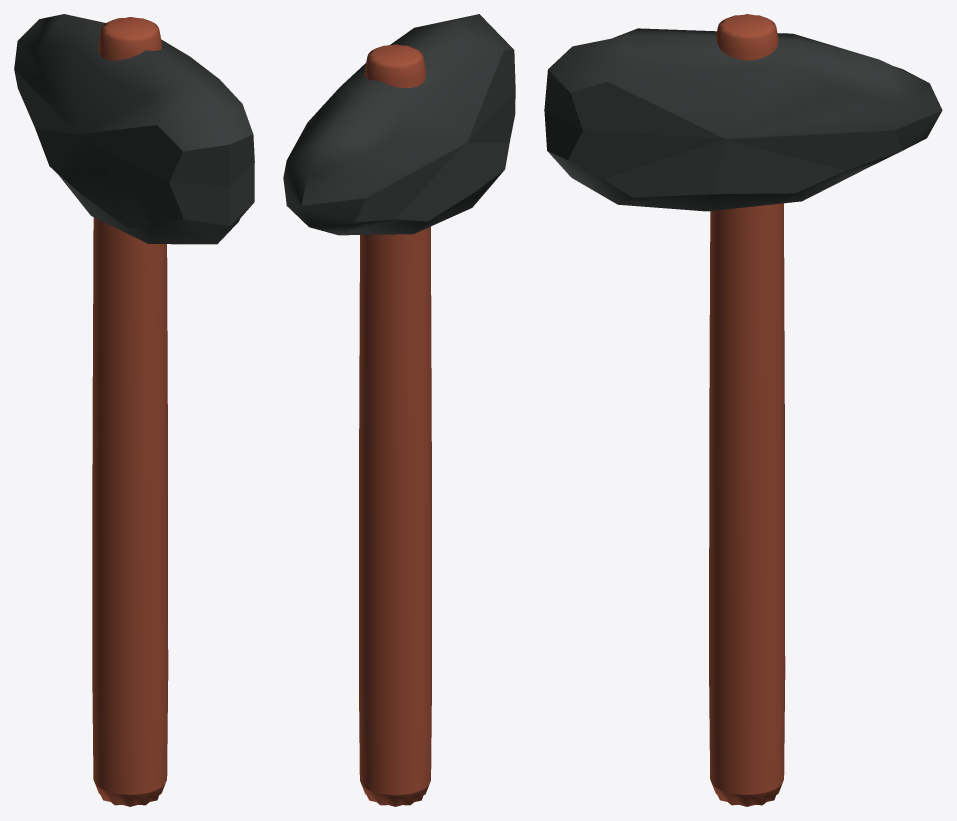
Rendered from Hammer.fbx.
3 views of the same model, side by side, from view 1: azimuth 30°, elevation 25°; view 2: azimuth 150°, elevation 25°; view 3: azimuth 270°, elevation 25° (orthographic). The views are drawn at different scales.
Parts seen in each view (by area): view 1: Hammer; view 2: Hammer; view 3: Hammer.
Boxes of the visible parts, x1,y1,x2,y2 form: Hammer: (14,14,254,806); Hammer: (283,14,515,806); Hammer: (544,14,942,806).
Bounding box in the file's own units: 0.7902 × 4.44 × 2.08.
